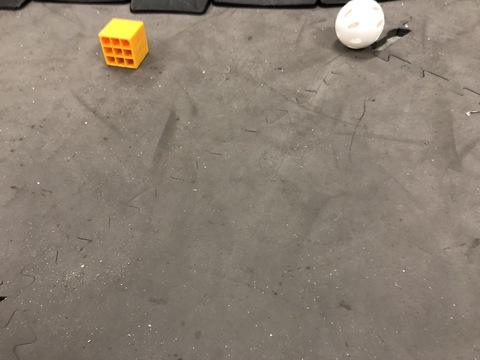ball: (323, 2, 399, 56)
block: (90, 14, 156, 78)
